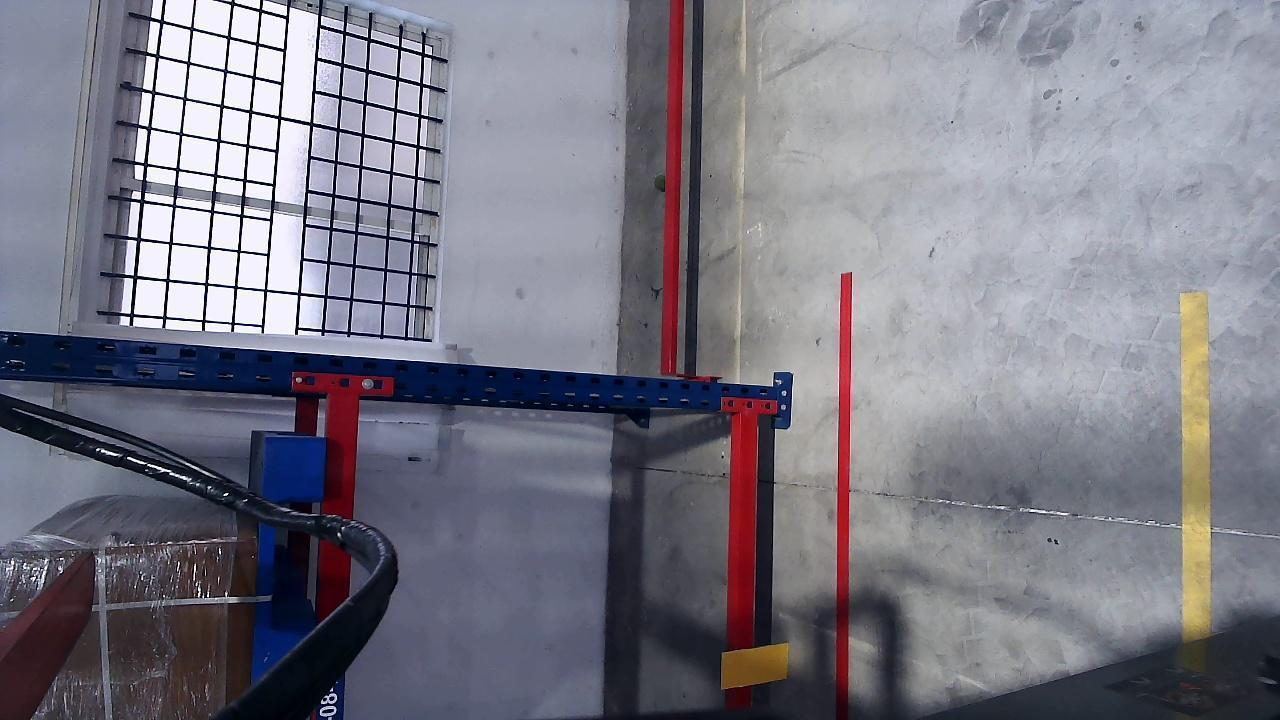red_line: (833, 271, 852, 719)
yellow_line: (1180, 298, 1213, 635)
